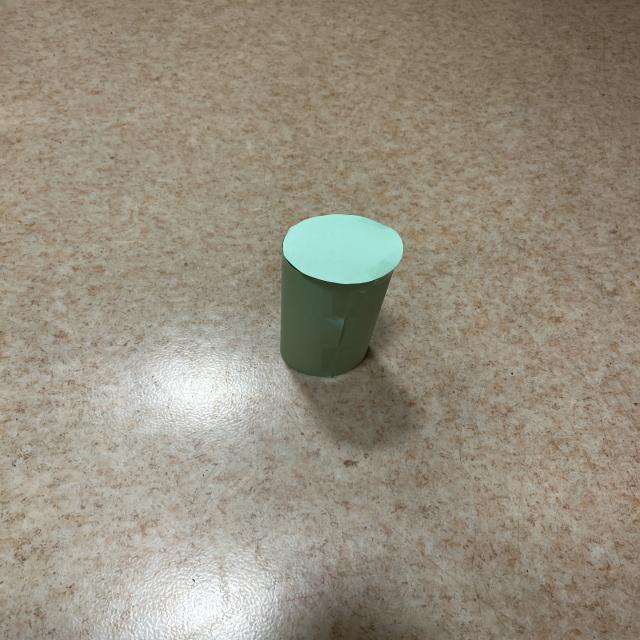meta: (280, 214, 403, 377)
